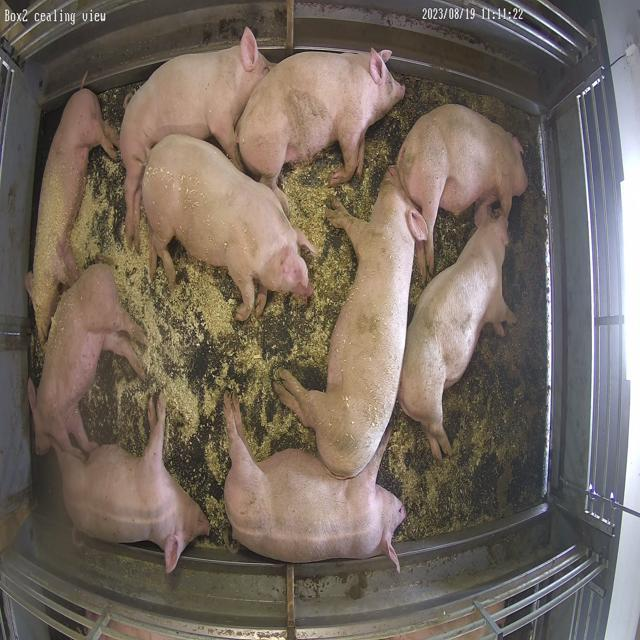Dirt: (341, 76, 550, 542), (436, 209, 473, 272)
Pig: (224, 167, 427, 570), (119, 28, 271, 242), (224, 395, 406, 572), (143, 135, 312, 320), (400, 204, 516, 460), (56, 396, 209, 574), (237, 50, 406, 198), (397, 104, 529, 274), (29, 88, 115, 342), (30, 263, 144, 453)
